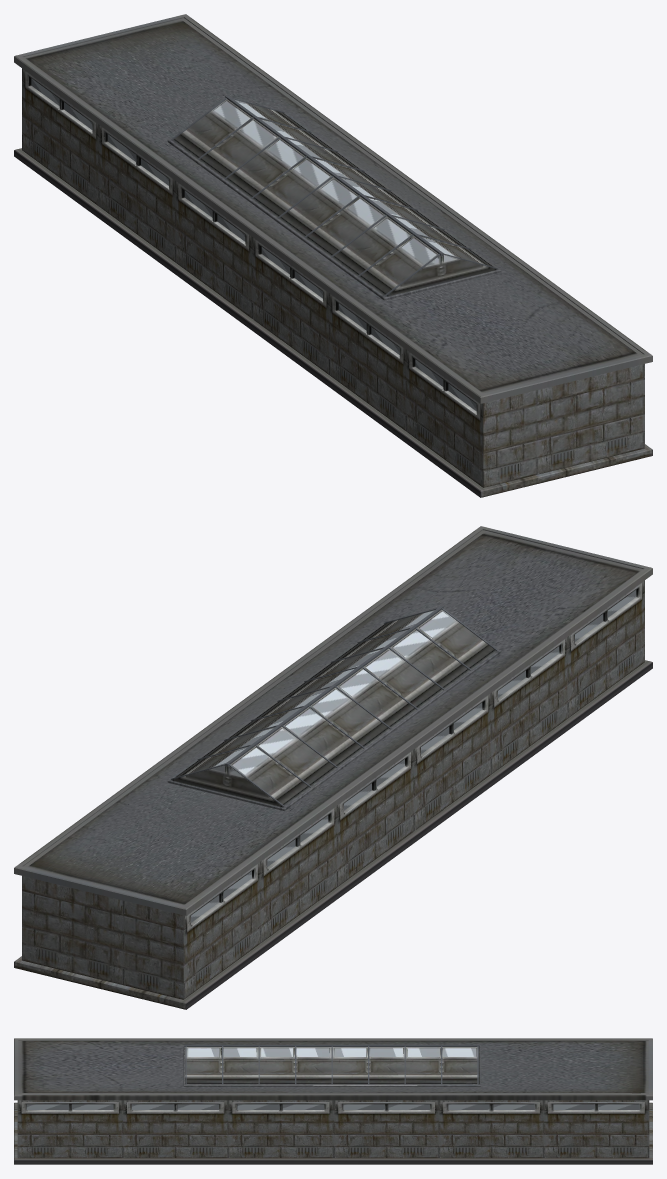
The model's file is s_admin_wing_cad.glb.
The picture shows the model from 3 angles, top to bottom: view 1: azimuth 30°, elevation 25°; view 2: azimuth 150°, elevation 25°; view 3: azimuth 270°, elevation 25°; orthographic projection. The views are drawn at different scales.
Visible parts, largest first — view 1: S_admin_wing; view 2: S_admin_wing; view 3: S_admin_wing.
Boxes of the visible parts, box(x1,y1,x2,y2) form: S_admin_wing: box(14, 14, 652, 497); S_admin_wing: box(14, 526, 652, 1009); S_admin_wing: box(14, 1038, 652, 1164).
Size of the model in its own units: 11.4 by 8.36 by 53.45.
1 material, 1 textured.
